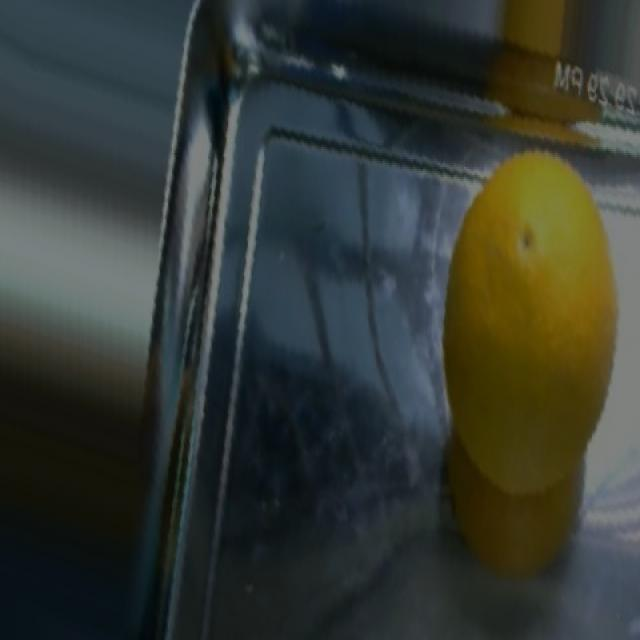Fruit: (442, 139, 634, 541), (484, 0, 588, 78)
